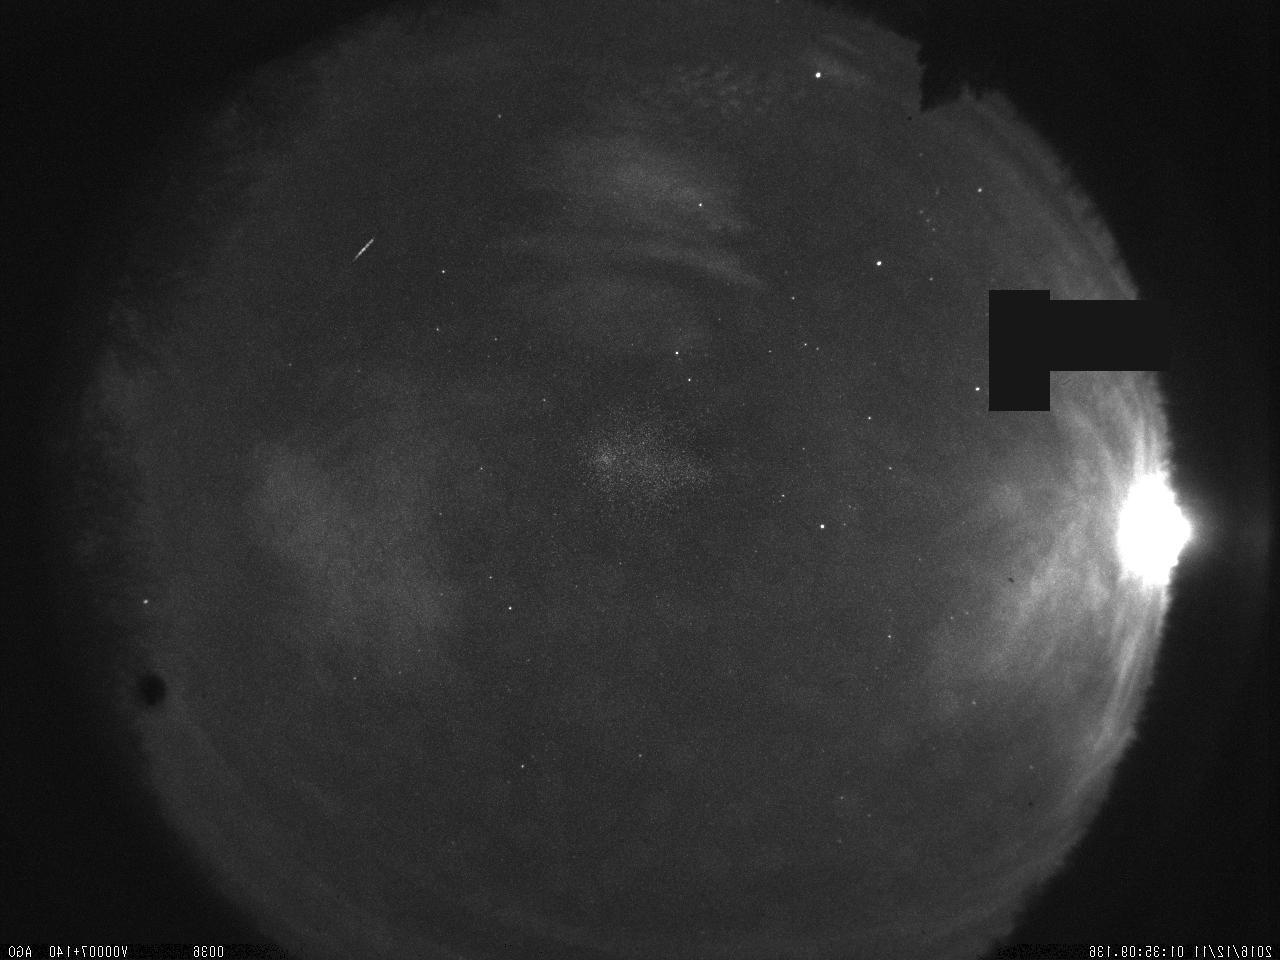meteor: (346, 229, 380, 265)
